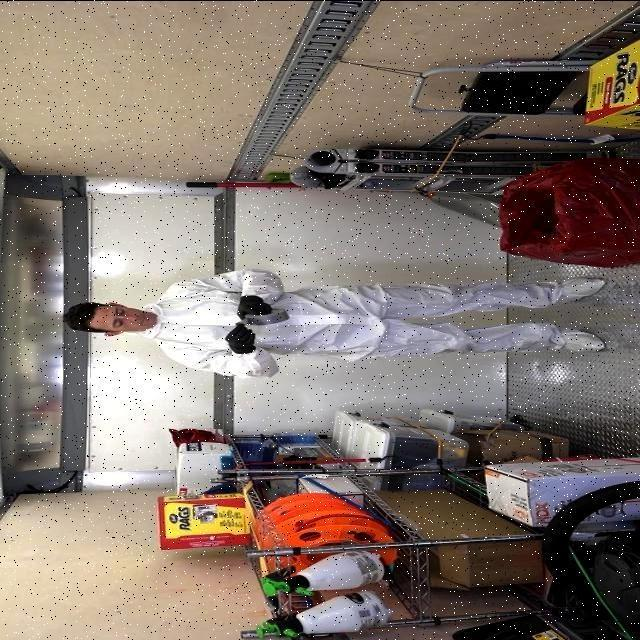apron: (235, 289, 273, 324), (226, 317, 258, 357)
